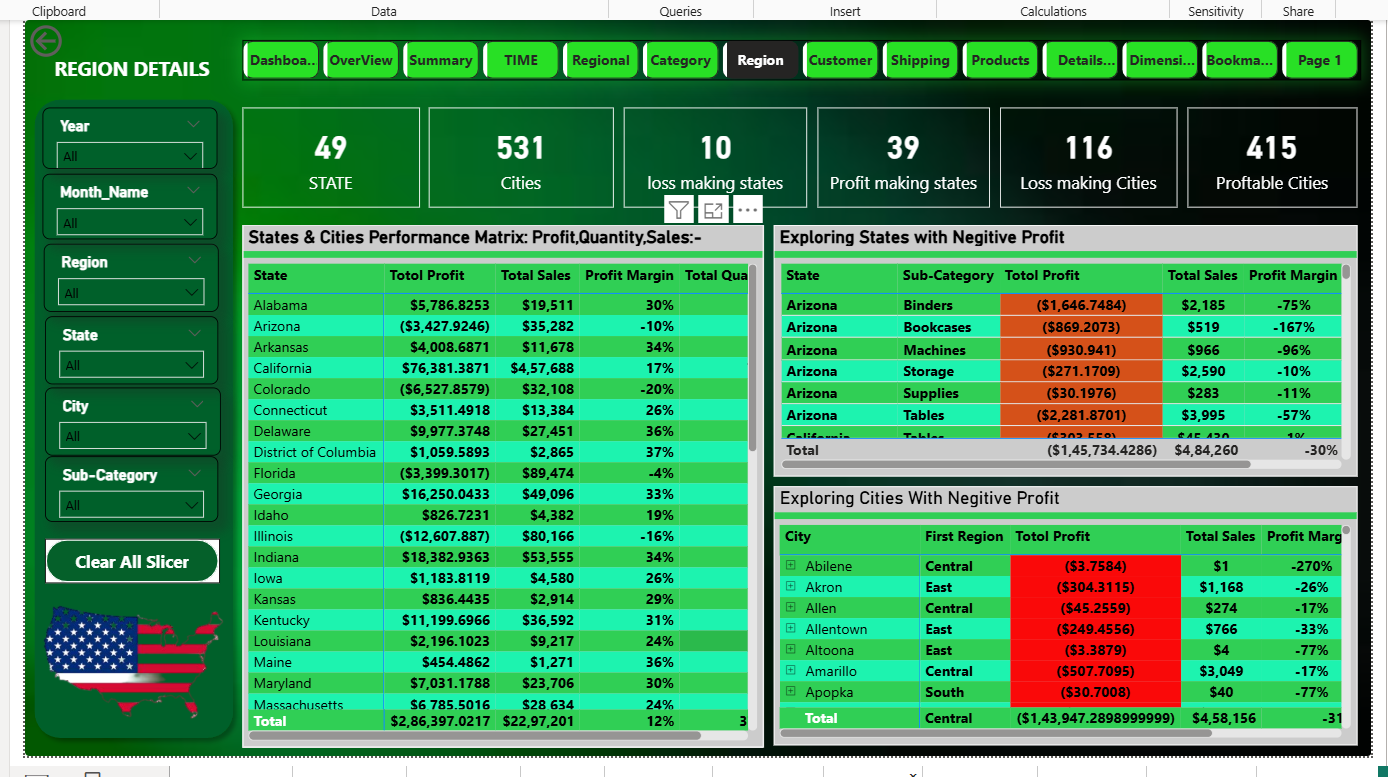

The dashboard page shown, as its layout file describes it:
{"tool":"powerbi","page":{"name":"Region ","canvas":[1280,700],"ordinal":6},"visuals":[{"type":"image","box":[0,0,1280.4,700.2],"z":0},{"type":"shape","box":[0,66.6,206.9,625.3],"z":1000},{"type":"textbox","box":[26.2,83.2,108.2,44],"z":2000},{"type":"textbox","box":[13.1,28.5,177.1,38],"z":3000},{"type":"slicer","fields":{"Values":["date_table.Year"]},"box":[16.2,83.8,166.2,58.8],"z":4000},{"type":"slicer","fields":{"Values":["Superstore.Region"]},"box":[17.5,212.5,166.2,65],"z":5000},{"type":"slicer","fields":{"Values":["date_table.Month_Name"]},"box":[16.2,146.2,166.2,62.5],"z":6000},{"type":"slicer","fields":{"Values":["Superstore.State"]},"box":[18.8,281.2,165,65],"z":7000},{"type":"shape","box":[18.8,493.8,166.2,42.5],"z":8000},{"type":"actionButton","box":[0,0,100,40],"z":9000},{"type":"slicer","fields":{"Values":["Superstore.City"]},"box":[18.8,350,167.5,65],"z":10000},{"type":"card","fields":{"Values":["All measures.STATE"]},"box":[206.9,83.2,168.8,95.1],"z":11000},{"type":"card","fields":{"Values":["All measures.Cities"]},"box":[384,83.2,176,95.1],"z":12000},{"type":"card","fields":{"Values":["All measures.loss making states"]},"box":[569.5,83.2,174.8,95.1],"z":13000},{"type":"card","fields":{"Values":["All measures.Profit making states"]},"box":[753.7,83.2,164.1,95.1],"z":14000},{"type":"card","fields":{"Values":["All measures.Loss making Cities"]},"box":[927.3,83.2,168.8,95.1],"z":15000},{"type":"card","fields":{"Values":["All measures.Proftable Cities"]},"box":[1105.6,83.2,161.7,95.1],"z":16000},{"type":"pivotTable","title":"States & Cities Performance Matrix: Profit,Quantity,Sales:-","fields":{"Rows":["Superstore.State"],"Values":["All measures.Totol Profit","All measures.Total Sales","All measures.Profit Margin","All measures.Total Quantity"]},"box":[206.9,195,495.8,496.9],"z":17000},{"type":"tableEx","title":"Exploring States with Negitive Profit","fields":{"Values":["Superstore.State","Superstore.Sub-Category","All measures.Totol Profit","All measures.Total Sales","All measures.Profit Margin","All measures.Total Quantity"]},"box":[712.1,195,555.2,239],"z":18000},{"type":"pivotTable","title":"Exploring Cities With Negitive Profit","fields":{"Rows":["Superstore.City","Superstore.Sub-Category"],"Values":["Min(Superstore.Region)","All measures.Totol Profit","All measures.Total Sales","All measures.Profit Margin","All measures.Total Quantity"]},"box":[712.1,443.4,555.2,246.1],"z":19000},{"type":"slicer","fields":{"Values":["Superstore.Sub-Category"]},"box":[18.8,415,165,62.5],"z":20000},{"type":"image","box":[16.6,546.9,173.6,128.4],"z":21000},{"type":"pageNavigator","box":[206.9,19,1064,38],"z":22000}]}

Visuals, with their boxes on the page's 1280x700 design canvas (x1, y1, x2, y2). These are canvas units, not pixel positions in the 1388x777 screenshot, which may show the page scaled, cropped or inside an application window:
image: rect(0, 0, 1280, 700)
shape: rect(0, 67, 207, 692)
textbox: rect(26, 83, 134, 127)
textbox: rect(13, 28, 190, 66)
slicer - date_table.Year: rect(16, 84, 182, 143)
slicer - Superstore.Region: rect(18, 212, 184, 278)
slicer - date_table.Month_Name: rect(16, 146, 182, 209)
slicer - Superstore.State: rect(19, 281, 184, 346)
shape: rect(19, 494, 185, 536)
actionButton: rect(0, 0, 100, 40)
slicer - Superstore.City: rect(19, 350, 186, 415)
card - All measures.STATE: rect(207, 83, 376, 178)
card - All measures.Cities: rect(384, 83, 560, 178)
card - All measures.loss making states: rect(570, 83, 744, 178)
card - All measures.Profit making states: rect(754, 83, 918, 178)
card - All measures.Loss making Cities: rect(927, 83, 1096, 178)
card - All measures.Proftable Cities: rect(1106, 83, 1267, 178)
"States & Cities Performance Matrix: Profit,Quantity,Sales:-" pivotTable: rect(207, 195, 703, 692)
"Exploring States with Negitive Profit" tableEx: rect(712, 195, 1267, 434)
"Exploring Cities With Negitive Profit" pivotTable: rect(712, 443, 1267, 690)
slicer - Superstore.Sub-Category: rect(19, 415, 184, 478)
image: rect(17, 547, 190, 675)
pageNavigator: rect(207, 19, 1271, 57)
